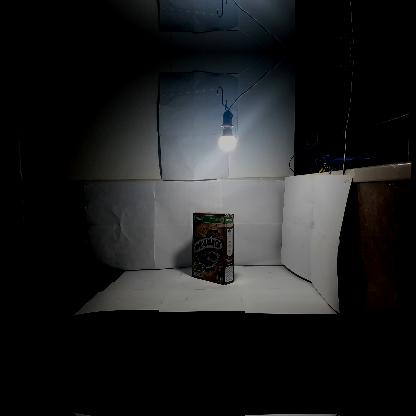Koko-Krunch: (192, 212, 234, 284)
